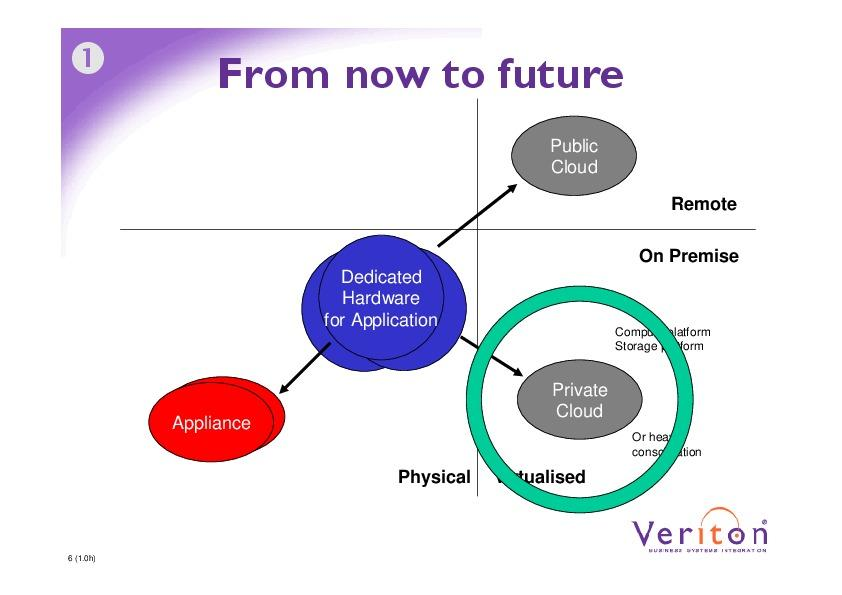title: (215, 43, 643, 98)
